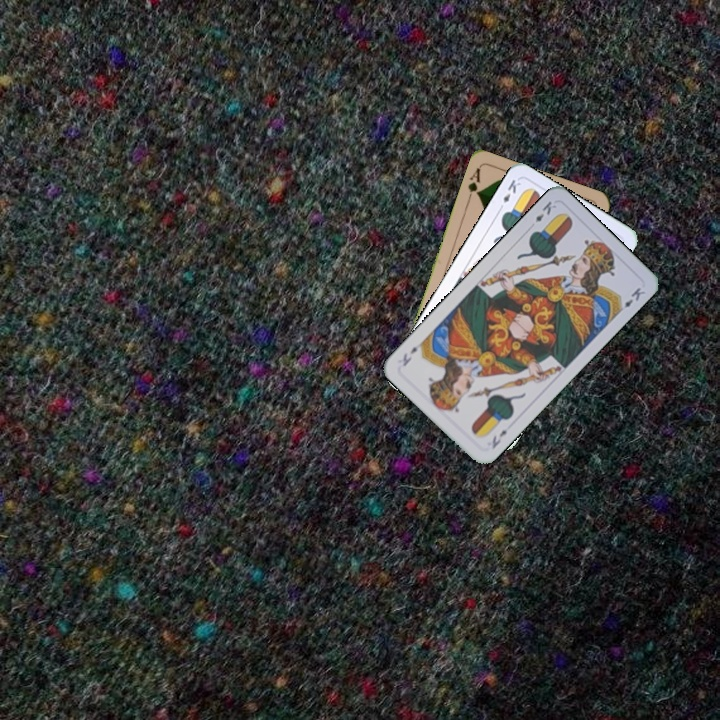EK: (494, 175, 523, 213), (531, 197, 559, 225), (488, 426, 510, 452)
GA: (463, 164, 483, 204)
